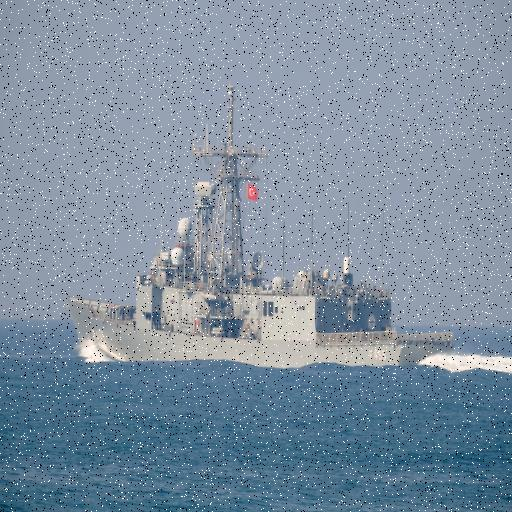Fragata: (59, 66, 464, 375)
